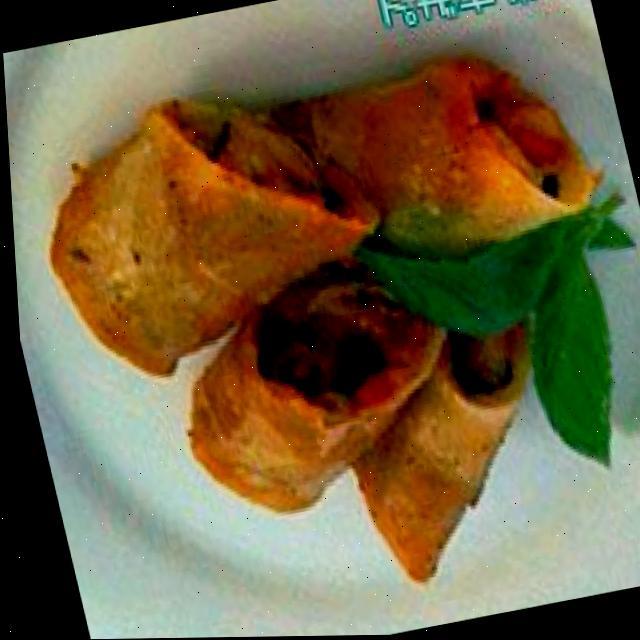鸡蛋料理: (1, 10, 640, 640)
